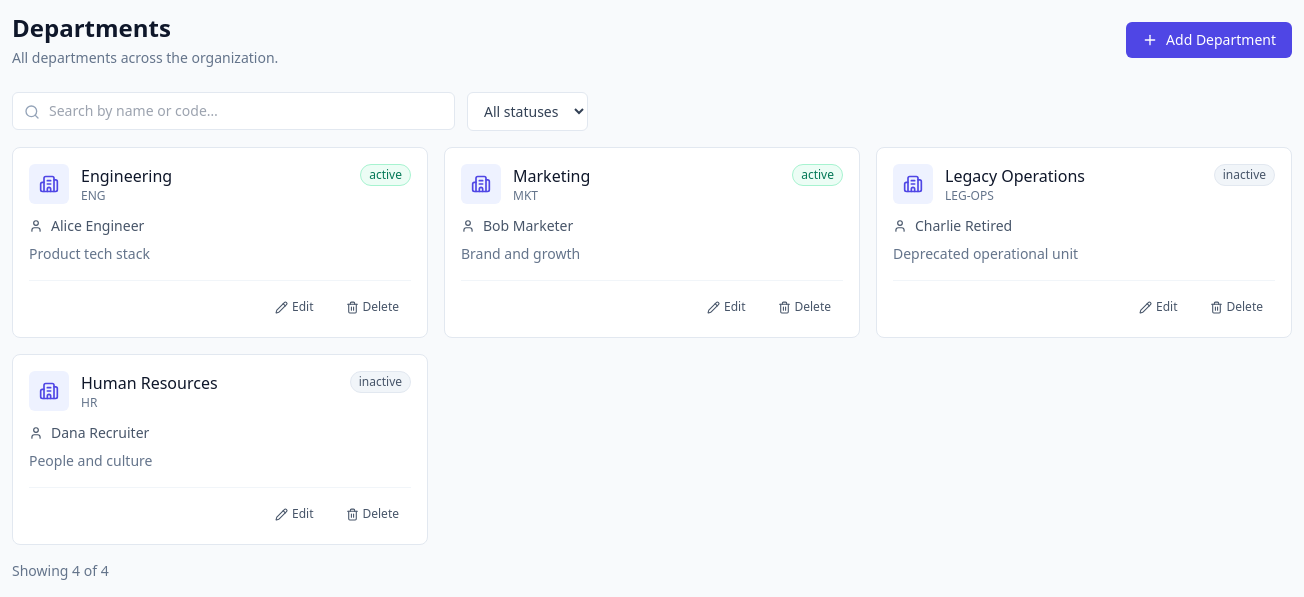
DepartmentsPage - Filtering and Interaction › filters departments by status
The image size is (1304, 597).
Check: the text "Engineering" is shown, box x1=81 y1=164 x2=172 y2=188
Check: the text "Legacy Operations" is shown, box x1=945 y1=164 x2=1085 y2=188
// Filter to Active
Select "Active" in the dropdown named "filter by department status" at (528,112), box x1=467 y1=92 x2=588 y2=131
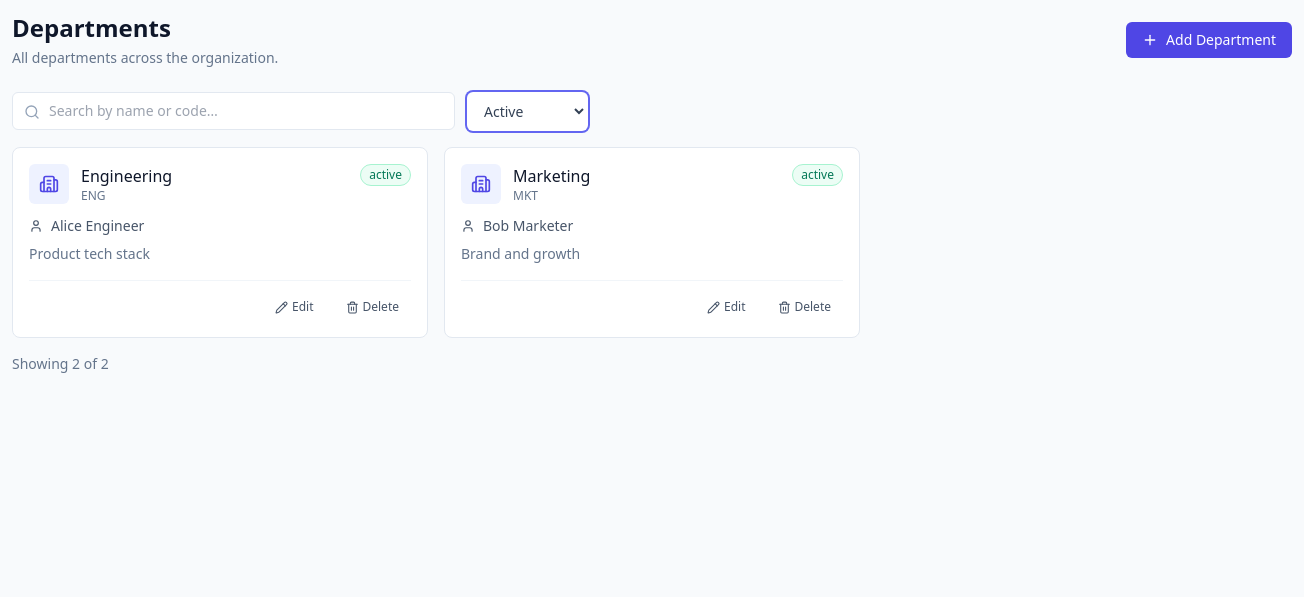
Check: the text "Engineering" is shown, box x1=81 y1=164 x2=172 y2=188
Check: the link "Legacy Operations" is gone
Check: the link "Human Resources" is gone
// Filter to Inactive
Select "Inactive" in the dropdown named "filter by department status" at (528,112), box x1=467 y1=92 x2=588 y2=131
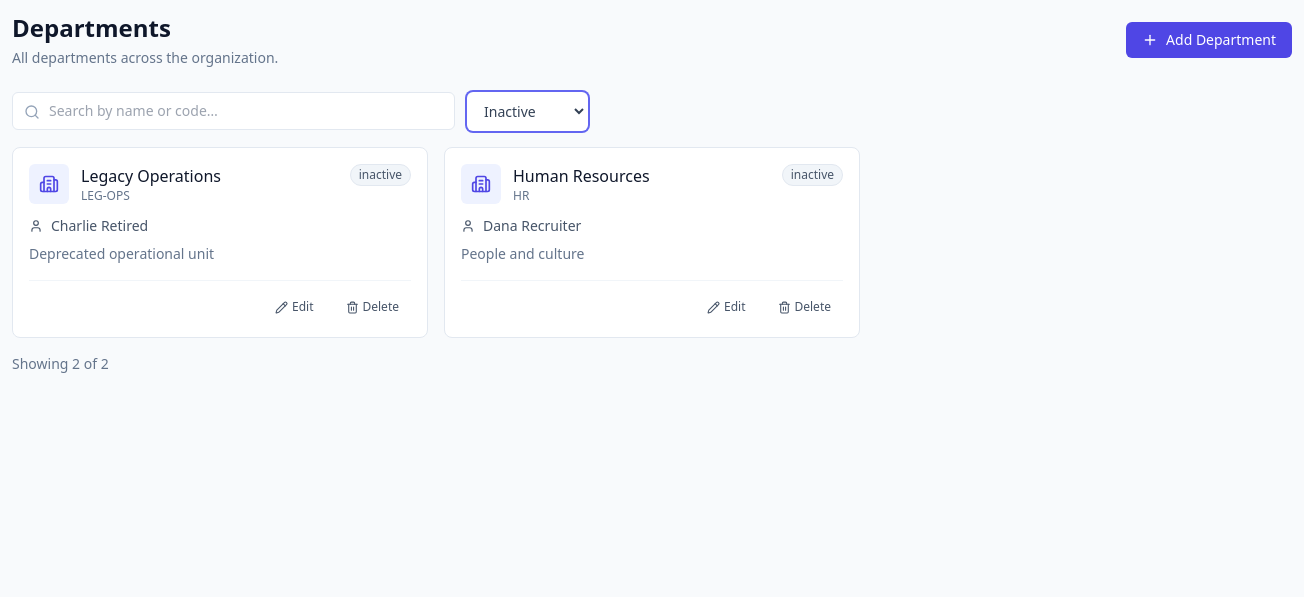
Check: the link "Engineering" is gone
Check: the link "Marketing" is gone
Check: the text "Legacy Operations" is shown, box x1=81 y1=164 x2=221 y2=188
// Reset to All statuses
Select "All statuses" in the dropdown named "filter by department status" at (528,112), box x1=467 y1=92 x2=588 y2=131
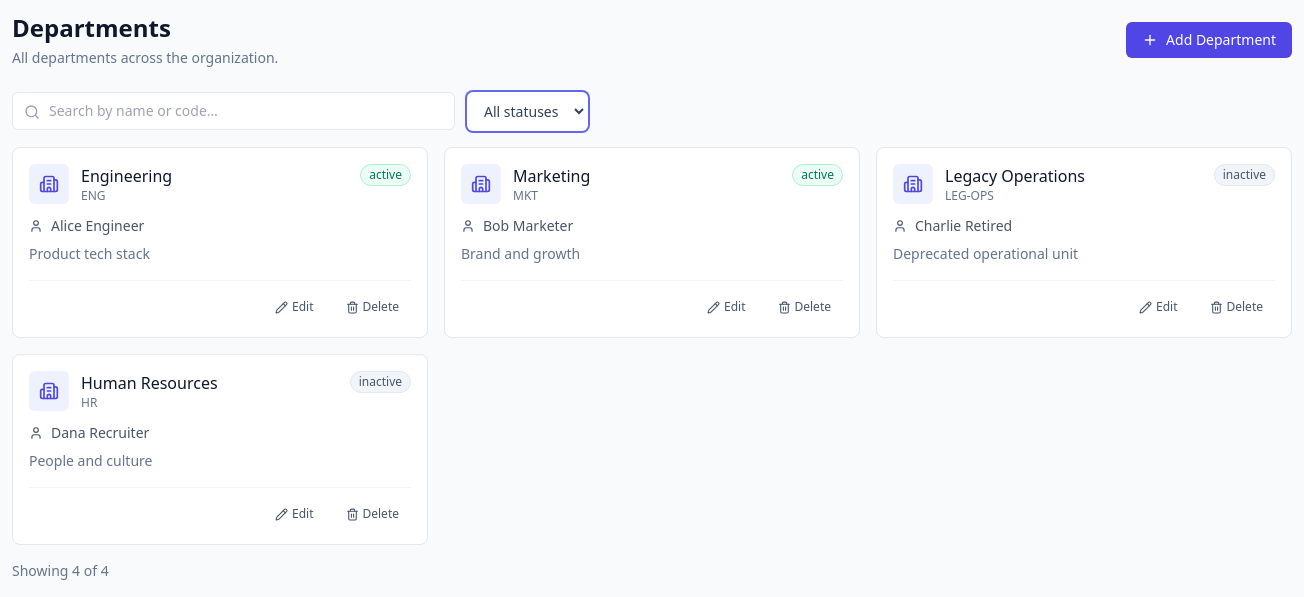
Check: the text "Legacy Operations" is shown, box x1=945 y1=164 x2=1085 y2=188
Check: the text "Engineering" is shown, box x1=81 y1=164 x2=172 y2=188
